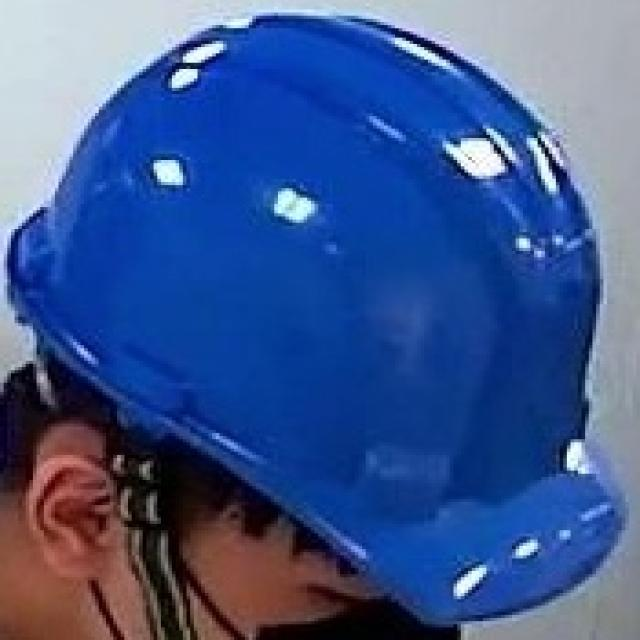helmet_blue: (4, 3, 636, 637)
